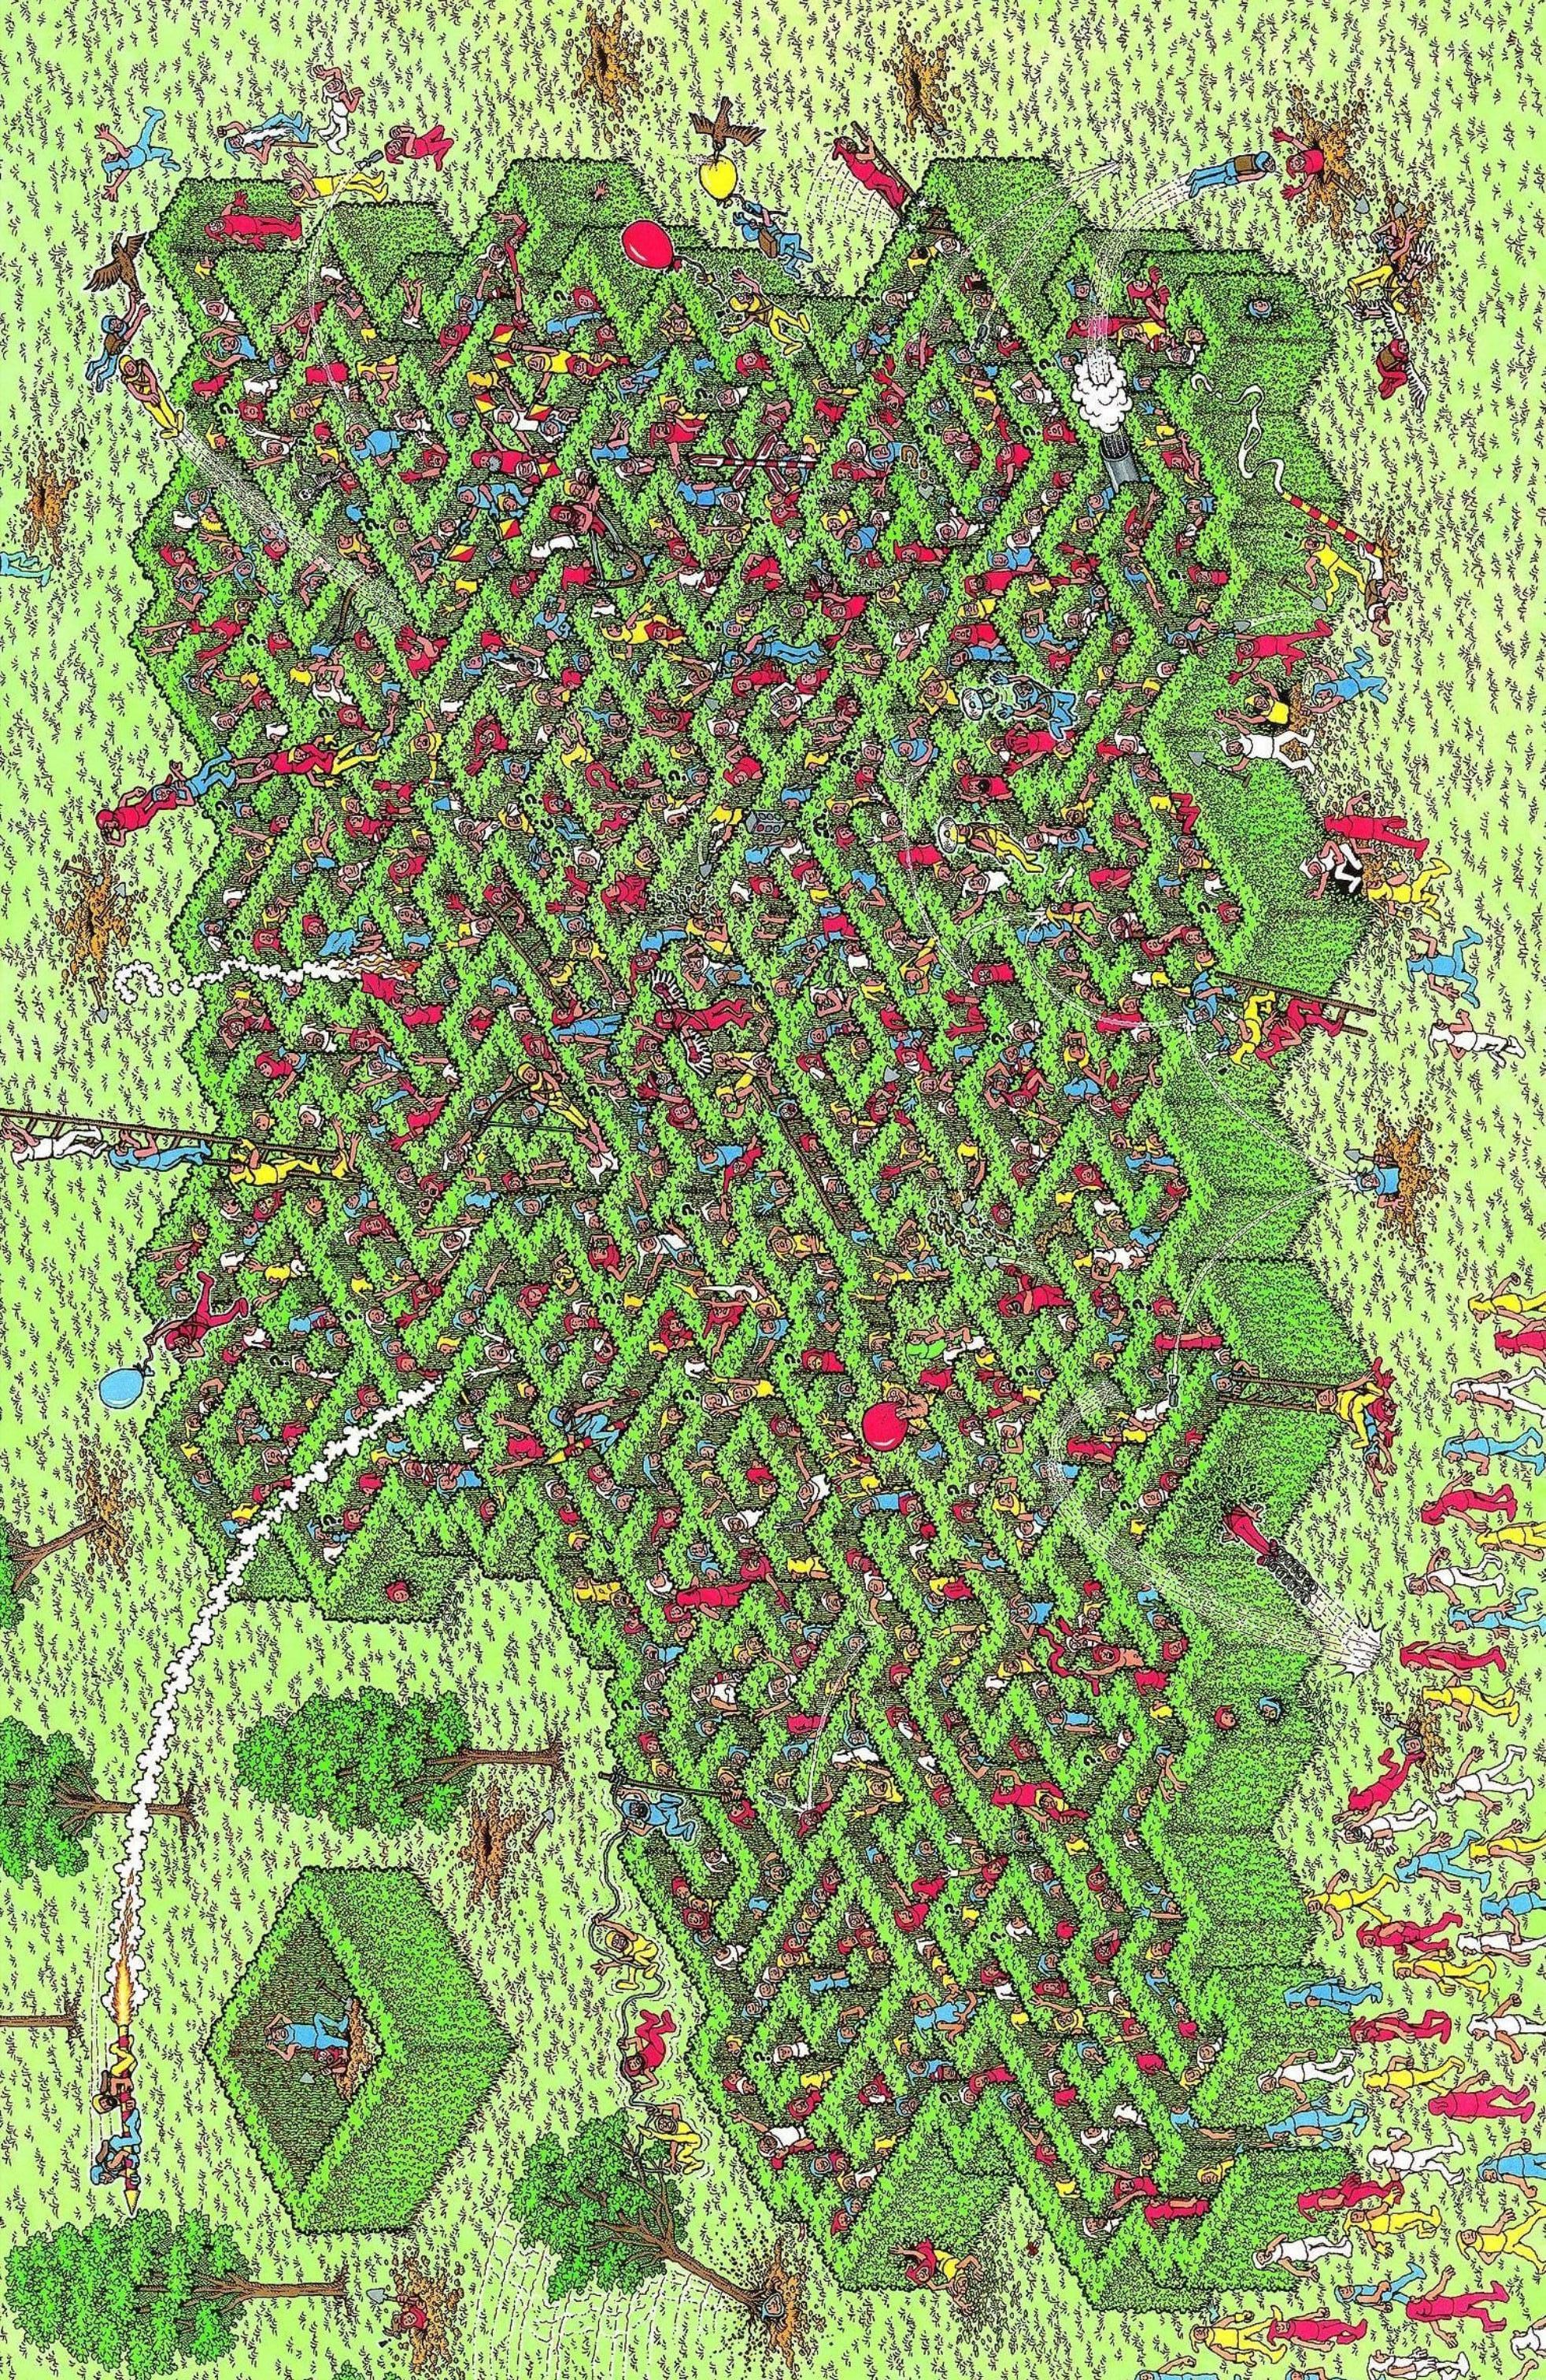waldos: (645, 1070, 677, 1089)
